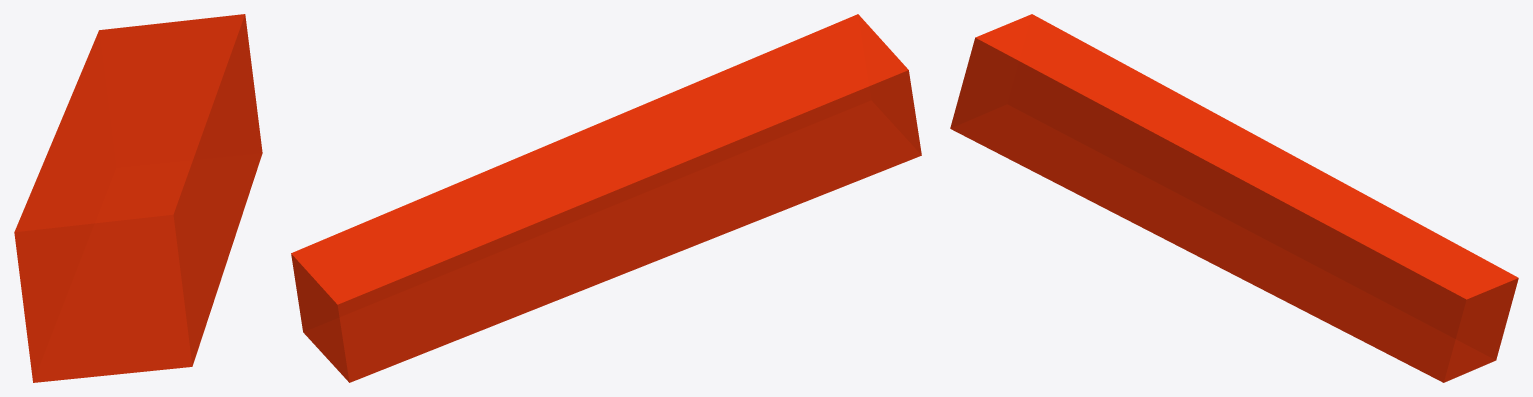
Rendered from Event_421127236_EBrechit_4.fbx.
The picture shows the model from 3 angles, left to right: view 1: azimuth 30°, elevation 25°; view 2: azimuth 150°, elevation 25°; view 3: azimuth 270°, elevation 25°; orthographic projection. The views are drawn at different scales.
Parts seen in each view (by area): view 1: Model; view 2: Model; view 3: Model.
Boxes of the visible parts, left/top/right/bottom form: Model: left=14, top=14, right=262, bottom=382; Model: left=291, top=14, right=921, bottom=382; Model: left=950, top=14, right=1518, bottom=382.
Size of the model in its own units: 0.2515 by 0.1393 by 0.3351.
